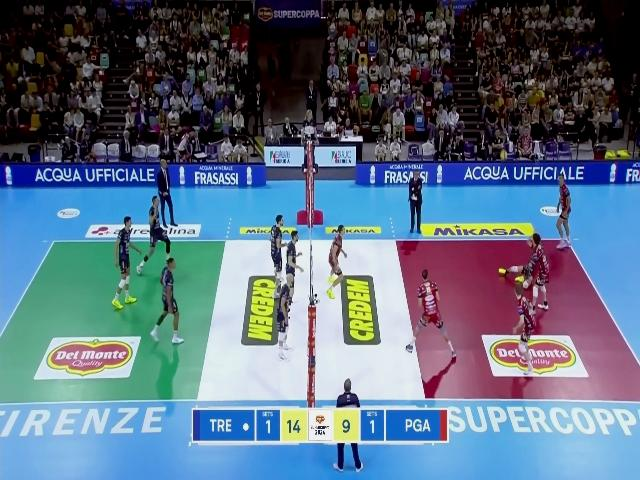volleyball court: (0, 235, 639, 403)
